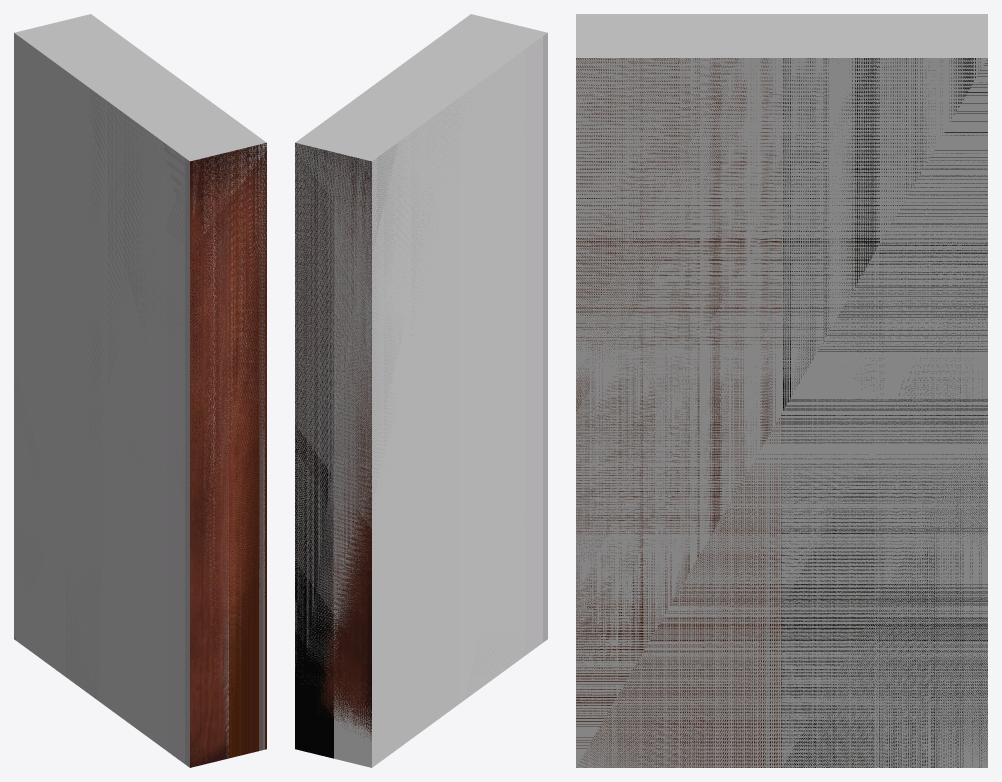
The model's file is book_shelf.DAE.
The picture shows the model from 3 angles, left to right: view 1: azimuth 30°, elevation 25°; view 2: azimuth 150°, elevation 25°; view 3: azimuth 270°, elevation 25°; orthographic projection. The views are drawn at different scales.
Visible parts, largest first — view 1: colbox-1, shelf_one100, bounds; view 2: colbox-1, bounds, shelf_one100; view 3: bounds, colbox-1.
Part boxes in pixels (bbox=[...]): colbox-1: bbox=[14, 33, 266, 767]; shelf_one100: bbox=[190, 142, 266, 767]; bounds: bbox=[14, 14, 266, 698]; colbox-1: bbox=[295, 33, 547, 767]; bounds: bbox=[295, 14, 547, 754]; shelf_one100: bbox=[295, 143, 371, 741]; bounds: bbox=[576, 14, 987, 767]; colbox-1: bbox=[576, 58, 987, 767].
Bounding box in the file's own units: 36.87 × 146 × 278.
